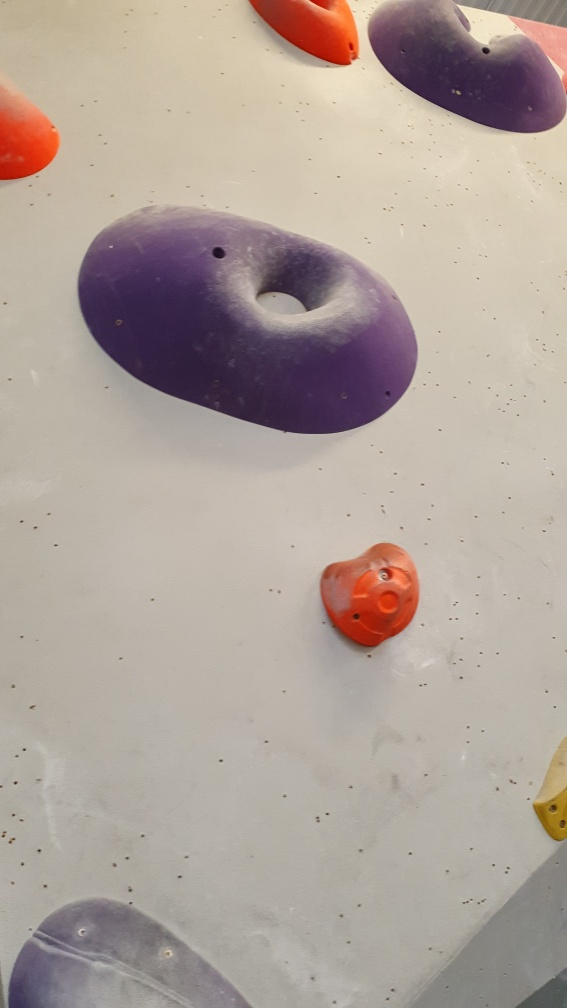Pocket: (78, 203, 418, 433), (247, 1, 364, 70)
